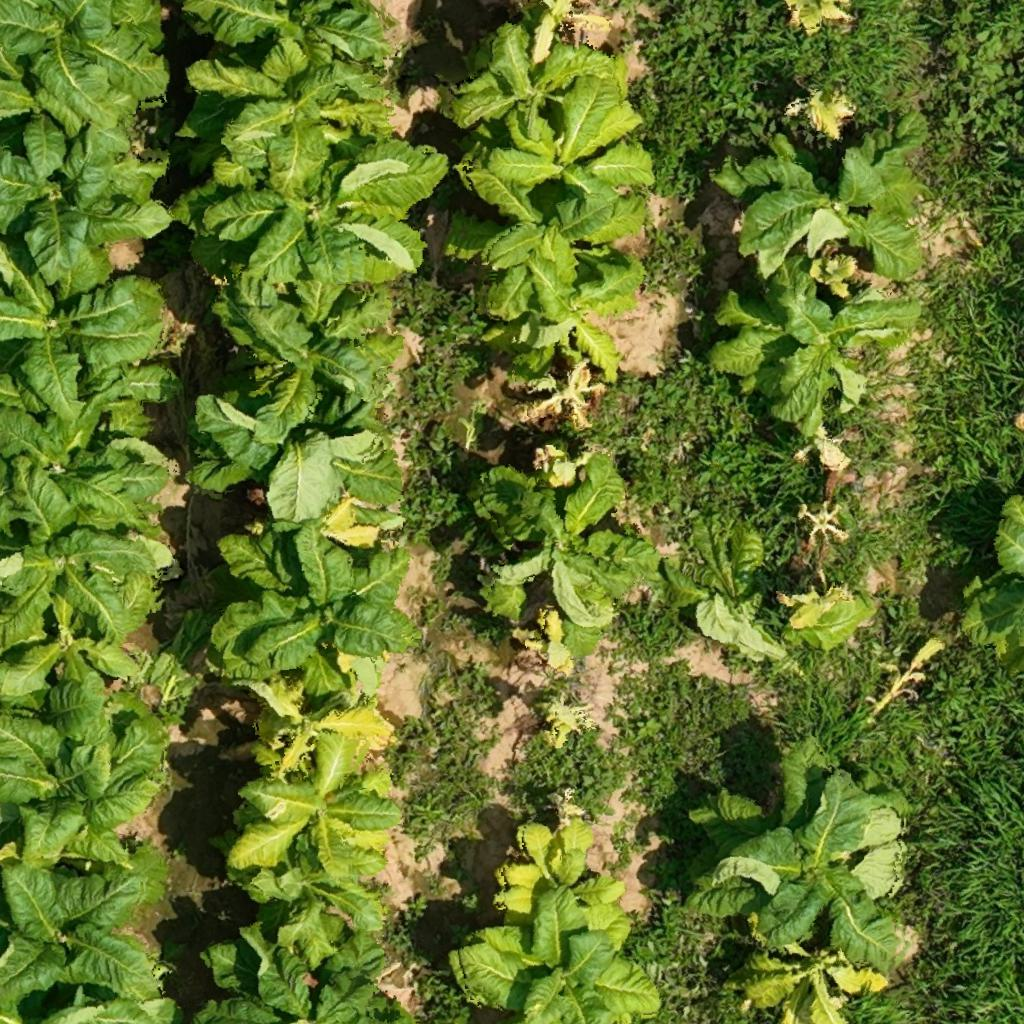disease: (223, 754, 403, 880), (218, 676, 403, 776), (486, 817, 636, 927), (739, 937, 891, 1023), (524, 361, 610, 431), (771, 573, 855, 635), (522, 2, 606, 62), (782, 84, 862, 144), (788, 498, 858, 552), (771, 3, 861, 39), (535, 698, 591, 754)
healthy: (686, 751, 930, 946), (693, 267, 924, 432), (171, 137, 435, 272), (464, 450, 662, 630), (200, 522, 424, 669), (710, 135, 950, 266), (178, 393, 420, 515), (431, 185, 658, 310), (0, 128, 177, 286), (180, 274, 415, 390), (6, 700, 172, 864), (442, 906, 678, 1020), (4, 404, 190, 540), (444, 108, 685, 210), (3, 865, 160, 1017), (450, 26, 654, 138), (186, 934, 430, 1023), (0, 2, 169, 128), (2, 281, 166, 403), (175, 54, 402, 142), (1, 536, 169, 650), (214, 857, 411, 944), (173, 4, 406, 68), (2, 623, 150, 696)
